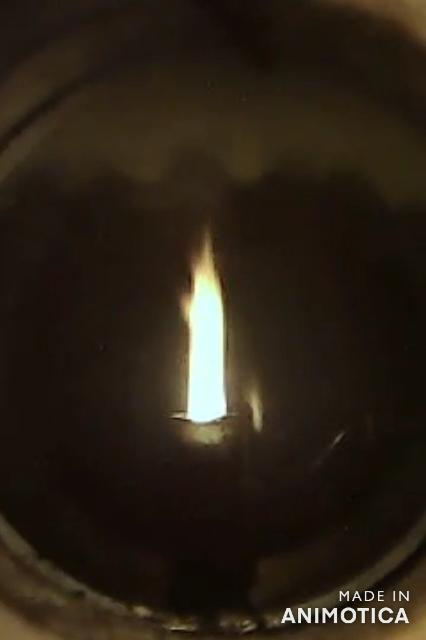burner flame: (180, 220, 234, 430)
